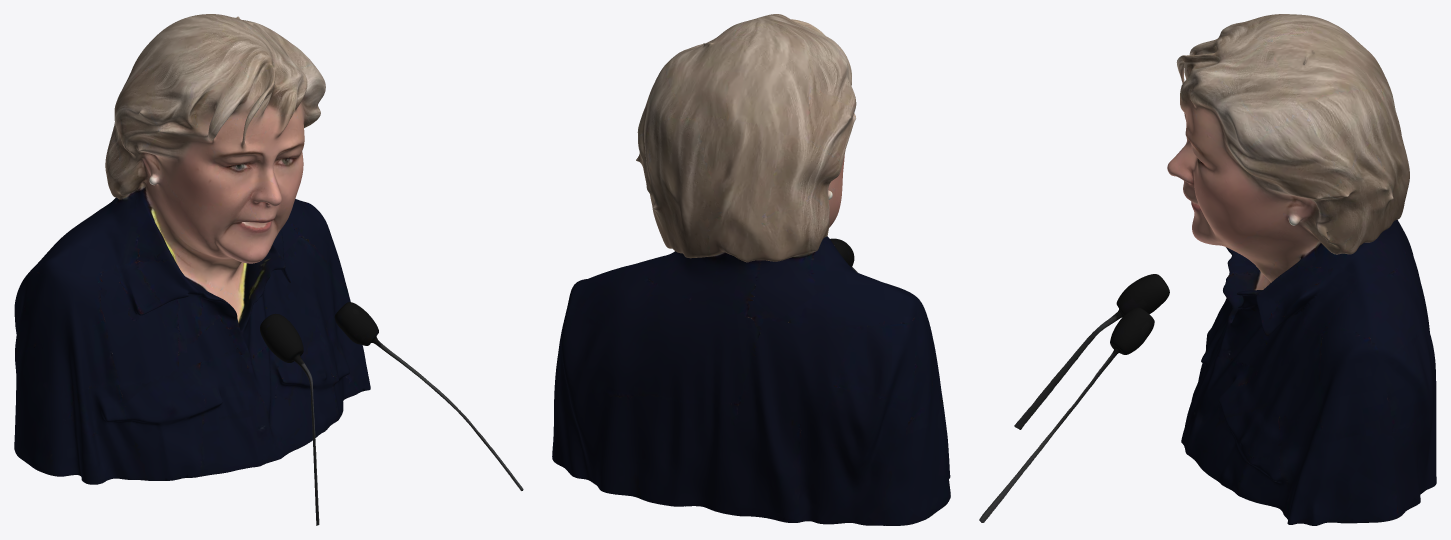
Rendered from erna_solberg.glb.
The picture shows the model from 3 angles, left to right: view 1: azimuth 30°, elevation 25°; view 2: azimuth 150°, elevation 25°; view 3: azimuth 270°, elevation 25°; orthographic projection. The views are drawn at different scales.
Size of the model in its own units: 1.67 by 1.9 by 1.85.
Materials: 1 (1 with a texture image).
